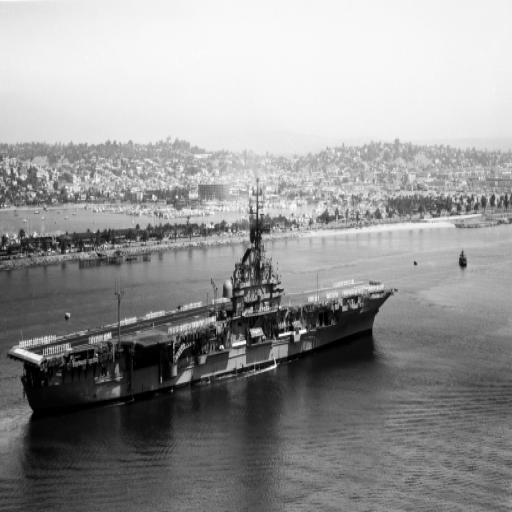Portanaves: (7, 174, 403, 430)
